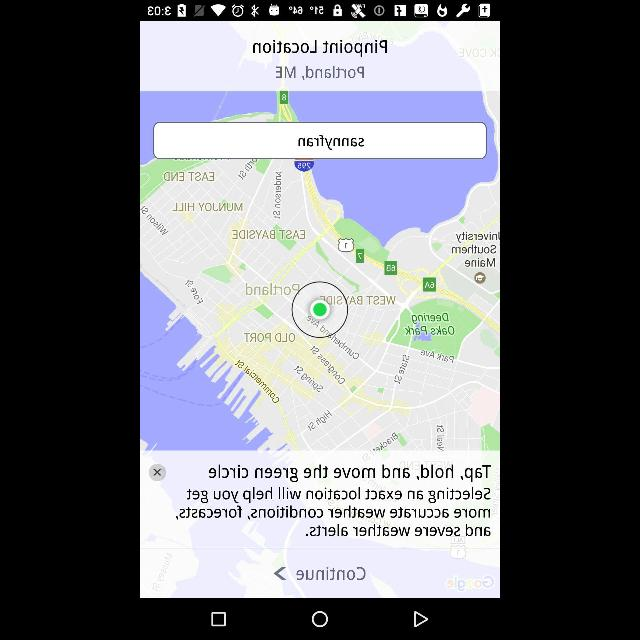icon: (268, 564, 288, 584), (310, 611, 328, 629), (412, 609, 428, 629), (150, 463, 164, 481), (210, 612, 226, 626)
input: (152, 122, 486, 160)
map: (142, 92, 498, 448)
panel: (141, 21, 499, 90)
text: (174, 461, 492, 537), (249, 40, 389, 56), (269, 65, 371, 83), (296, 136, 364, 150)
textbutton: (268, 562, 368, 584)
uppertaskbar: (140, 1, 498, 22)
